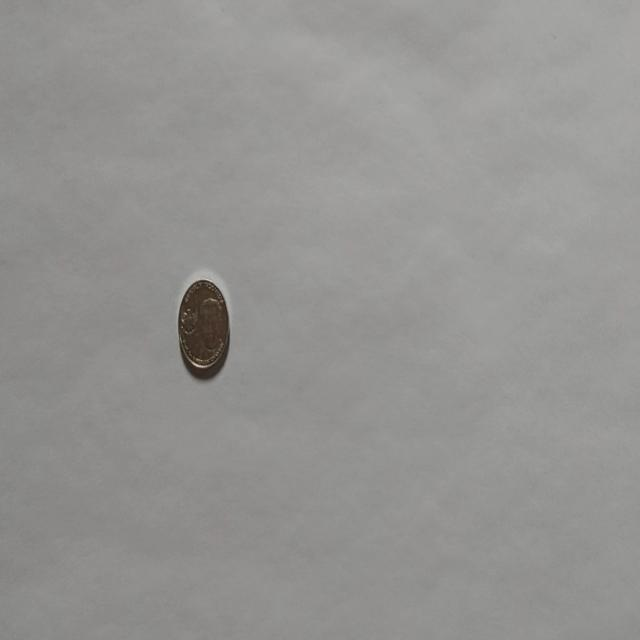seratus rupiah: (177, 276, 230, 376)
